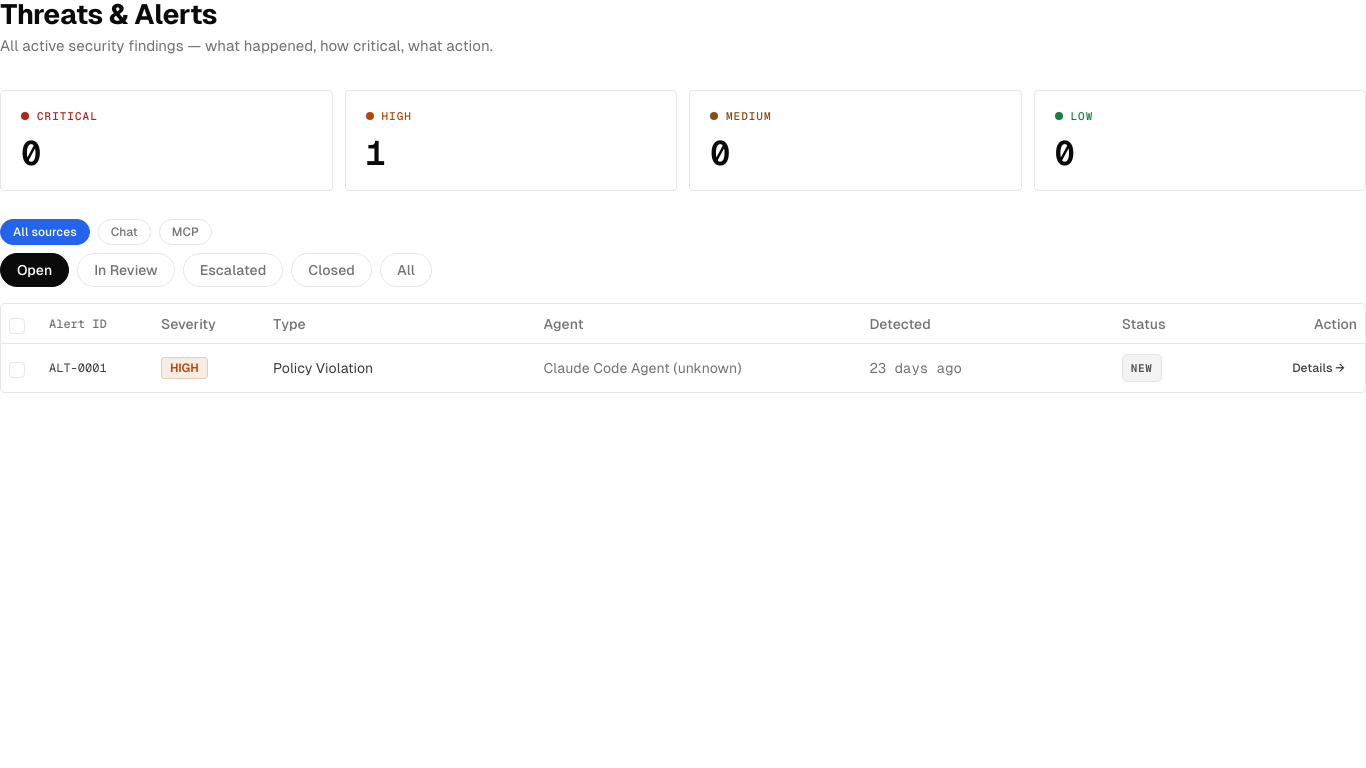
Test: ThreatsAlertsPage — triage sheet › disables Add to Policy when the alert has no findings
The width and height of the screenshot is (1366, 768).
Step 1. Click the button "Details →" → click(1319, 368), box x1=1280 y1=352 x2=1357 y2=384
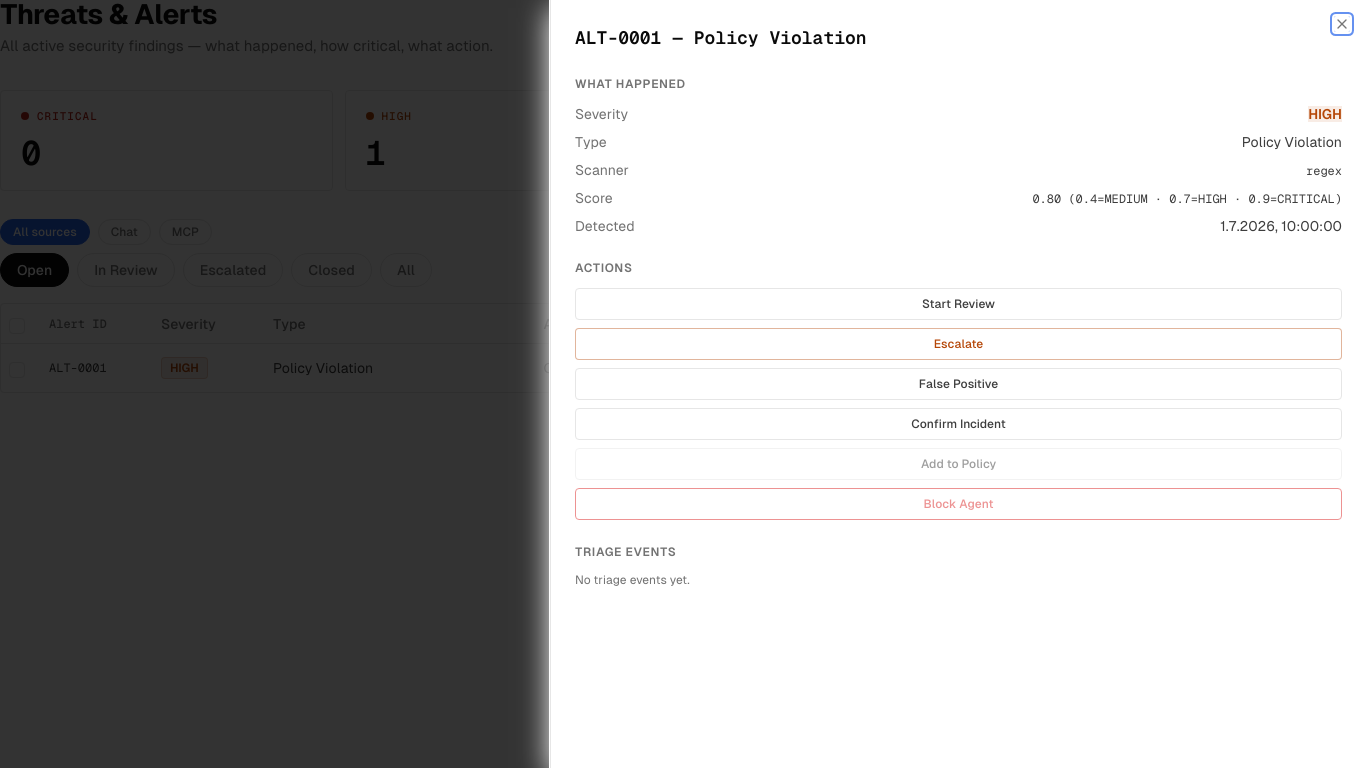
Now the button "Add to Policy" is disabled, box x1=575 y1=448 x2=1342 y2=480
